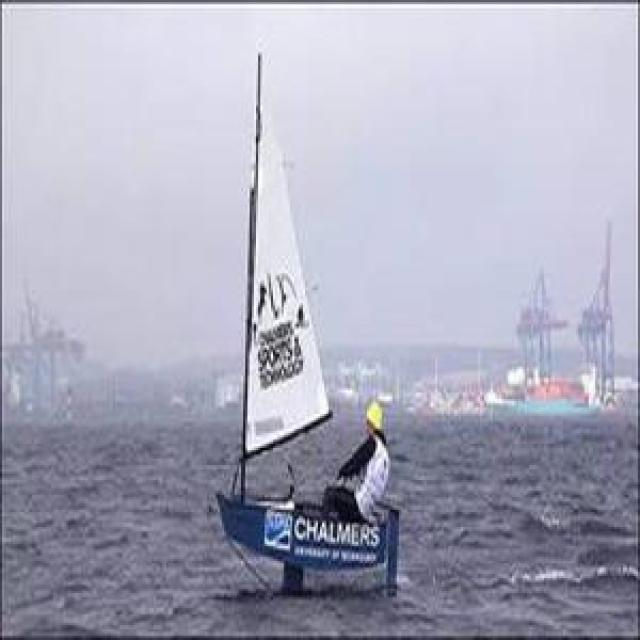sailboat: (212, 36, 408, 592)
